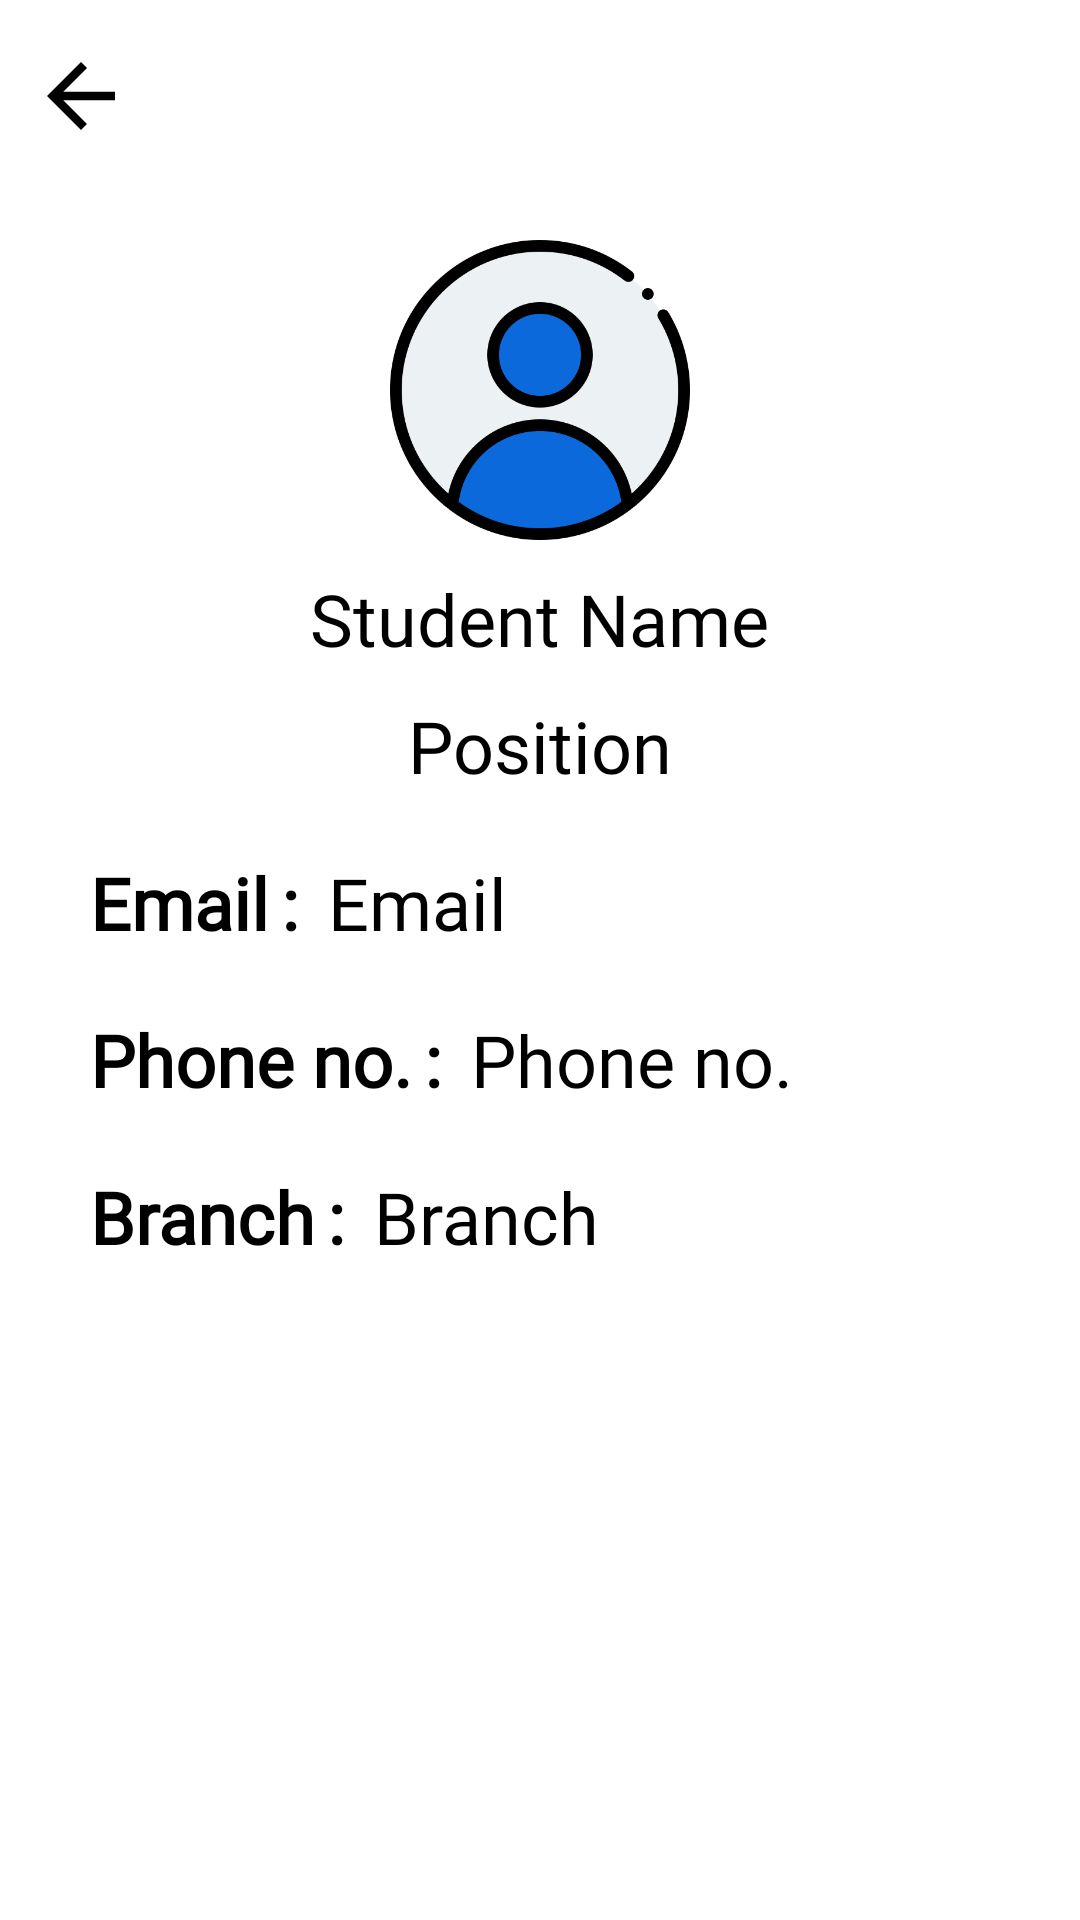

Screen size 1080×1920. Icon name, then its box in pixels as detection(x1, y1, x2, y2):
arrow back: detection(47, 62, 115, 130)
profile: detection(390, 240, 690, 540)
